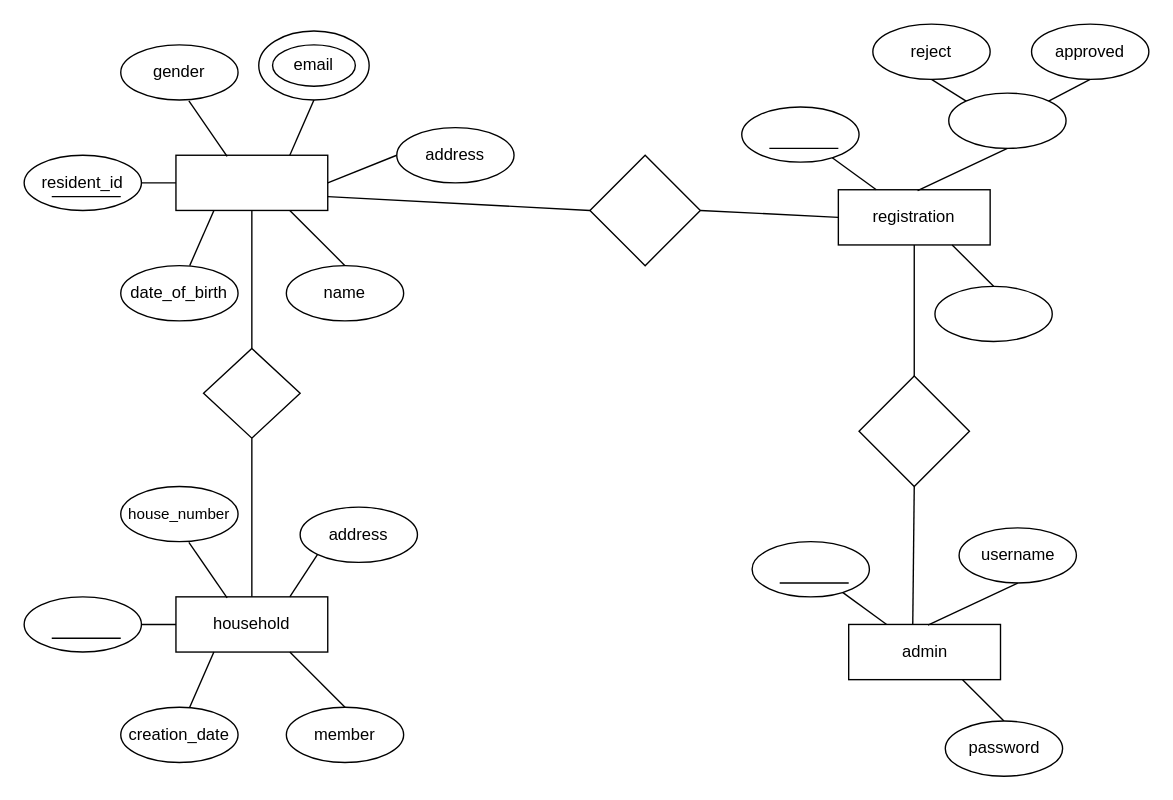
This 1173x800 diagram has some shape labels left out. The centre of each missing label's shape, as x and y in pixels:
"admin_id" goes at (x=810, y=568).
"date" goes at (x=993, y=313).
"has" goes at (x=251, y=392).
"household_id" goes at (x=82, y=623).
"managed_by" goes at (x=913, y=430).
"registers to" goes at (x=644, y=210).
"registration_id" goes at (x=799, y=134).
"Resident" goes at (x=251, y=182).
"status" goes at (x=1006, y=120).
